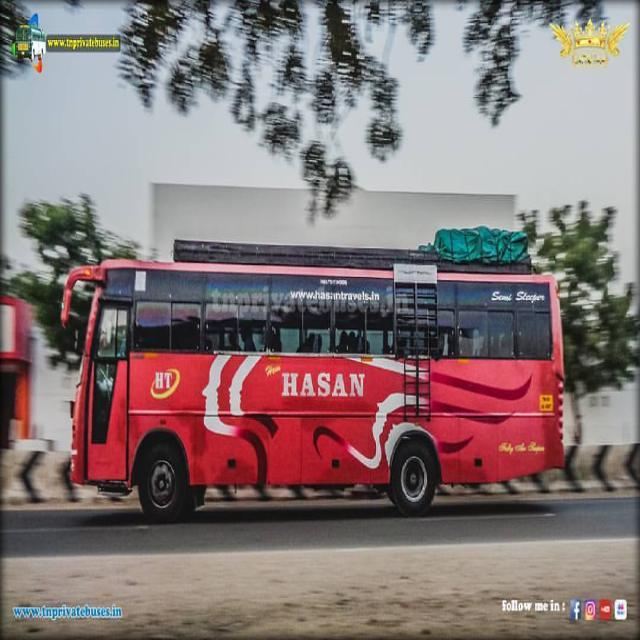Bus: (58, 226, 568, 520)
